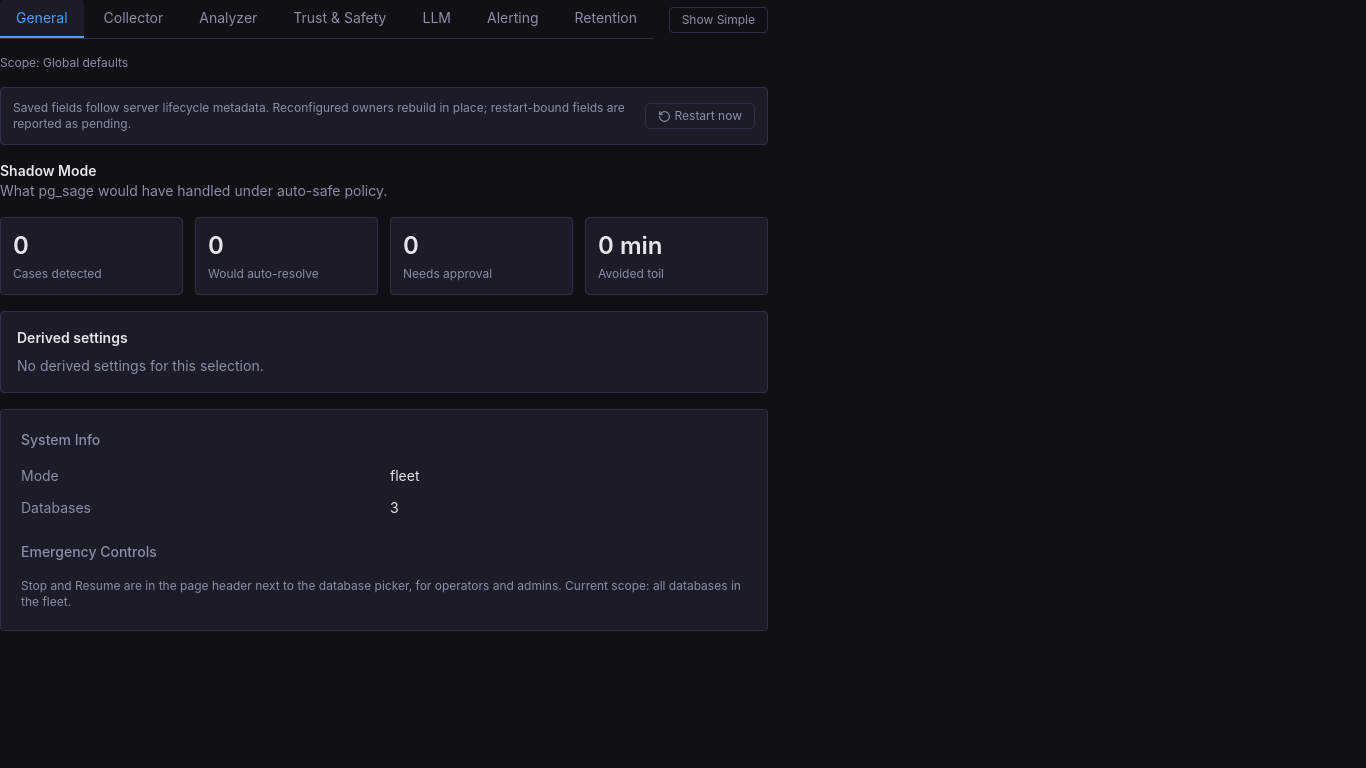
Test case: SettingsPage › shows restart-pending fields returned by the server
Click the button with test id "settings-tab-retention": (606,19) left=558, top=0, right=653, bottom=38
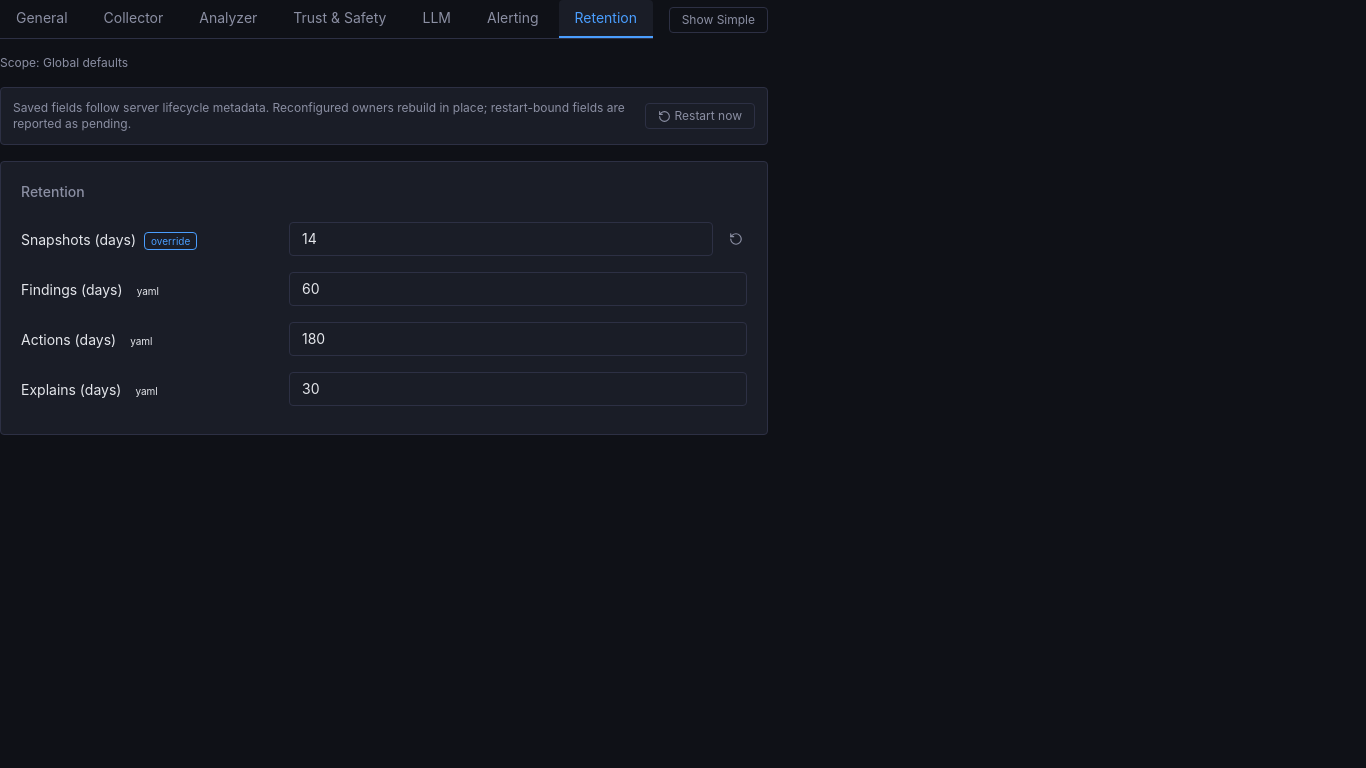
Replace the text in the number field with test id "setting-retention.snapshots_days" with "21": (501,239) left=289, top=222, right=713, bottom=256
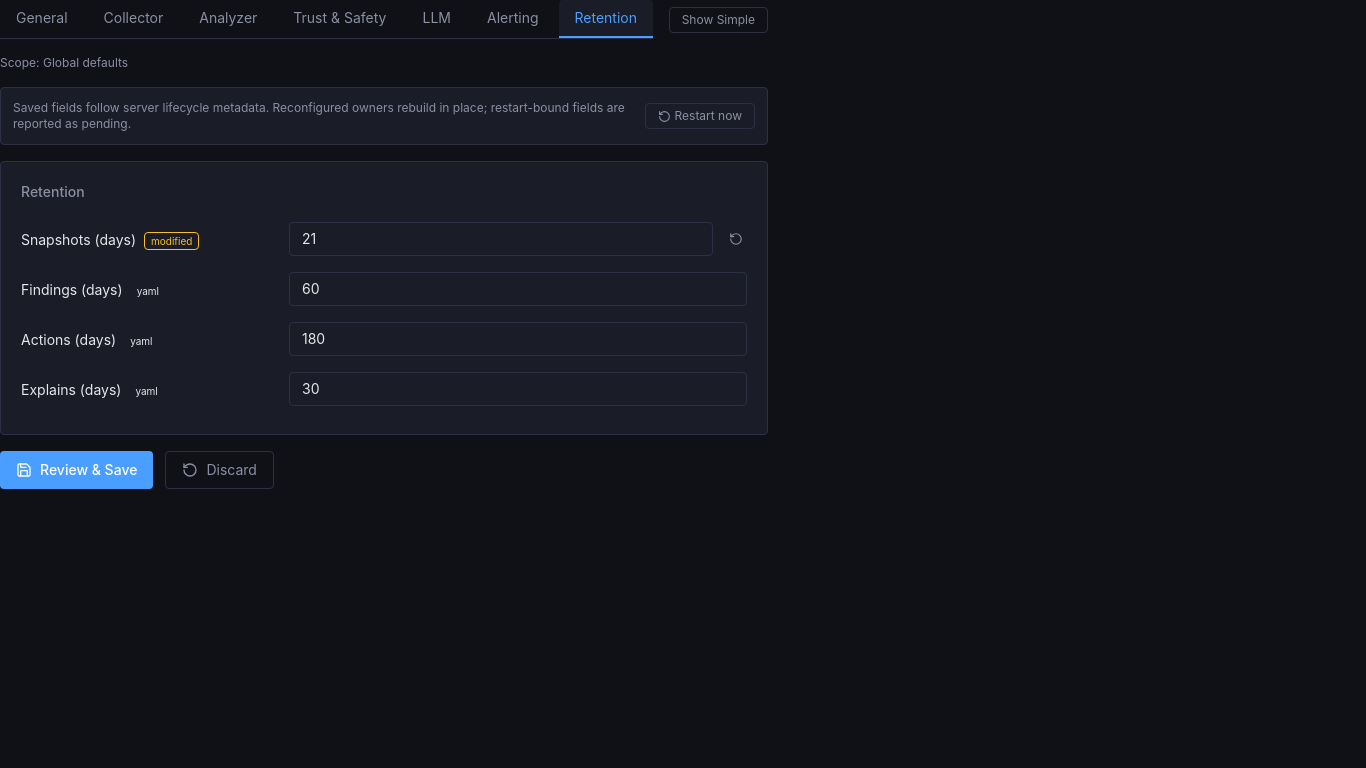
Click the button with test id "settings-save": (77,470) left=0, top=451, right=153, bottom=489
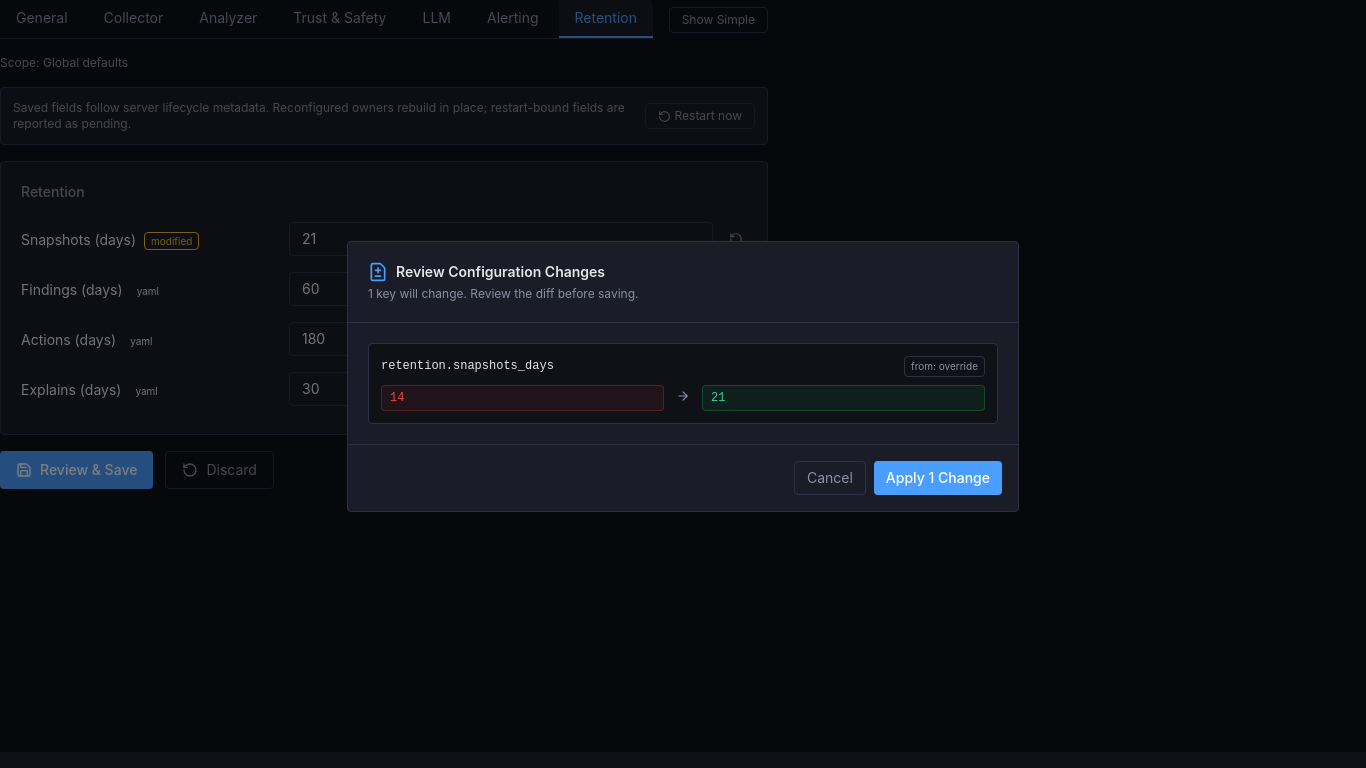
Click the button with test id "config-diff-confirm": (938,478) left=874, top=460, right=1002, bottom=494
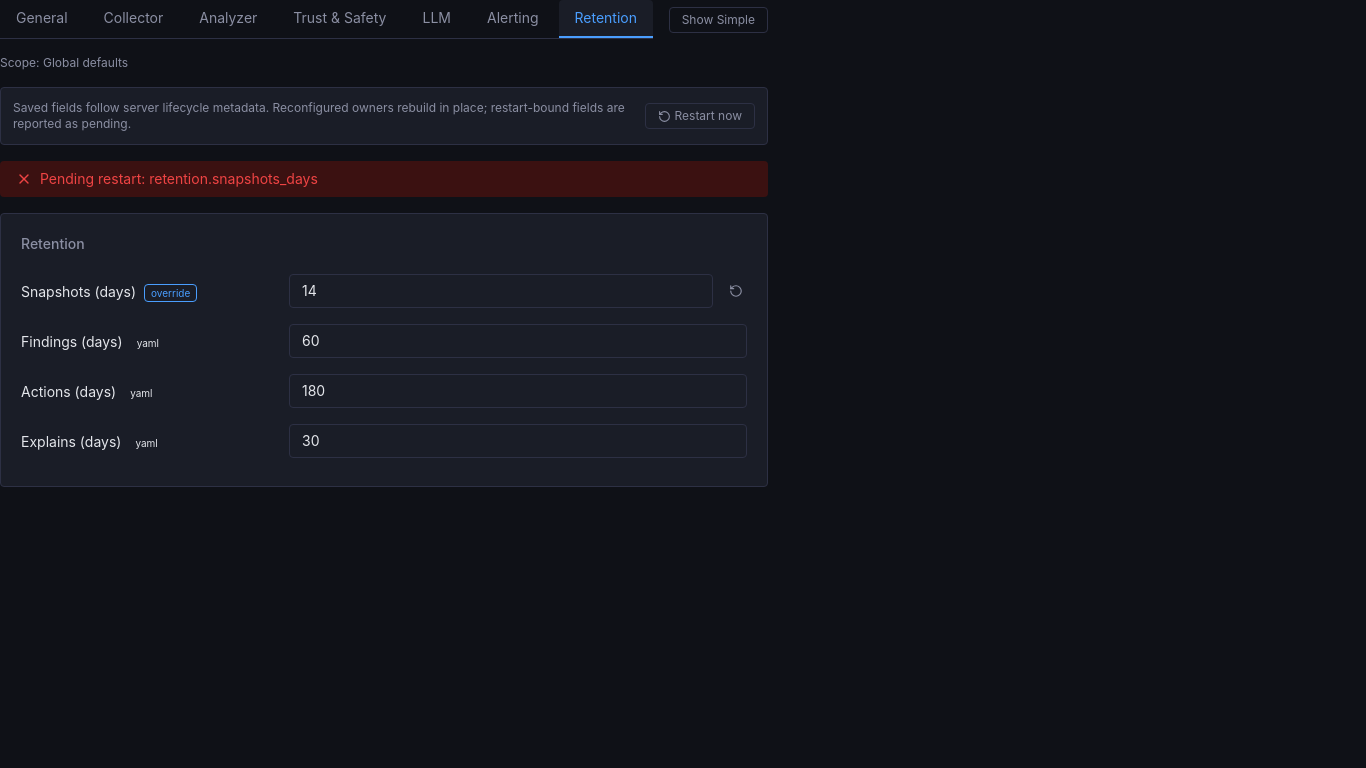
Expected: the text "Pending restart: retention.snapshots_days" is shown, left=0, top=161, right=768, bottom=197
